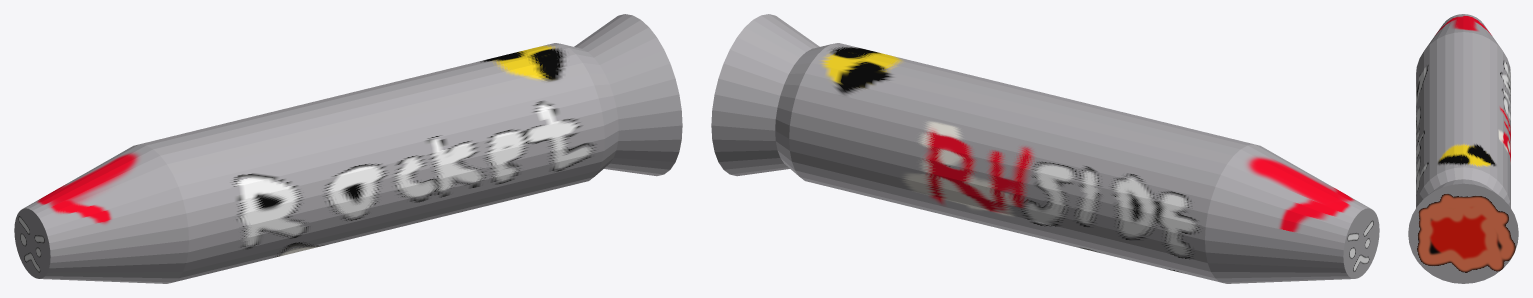
The model's file is rocket.obj.
3 renders of one model, left to right at view 1: azimuth 30°, elevation 25°; view 2: azimuth 150°, elevation 25°; view 3: azimuth 270°, elevation 25°, orthographic. The views are drawn at different scales.
Visible parts, largest first — view 1: Cylinder; view 2: Cylinder; view 3: Cylinder.
Part boxes in pixels (bbox=[...]): Cylinder: bbox=[14, 14, 682, 283]; Cylinder: bbox=[711, 14, 1379, 283]; Cylinder: bbox=[1408, 14, 1518, 283].
Bounding box in the file's own units: 4.92 × 1.16 × 1.16.
1 material, 1 textured.
